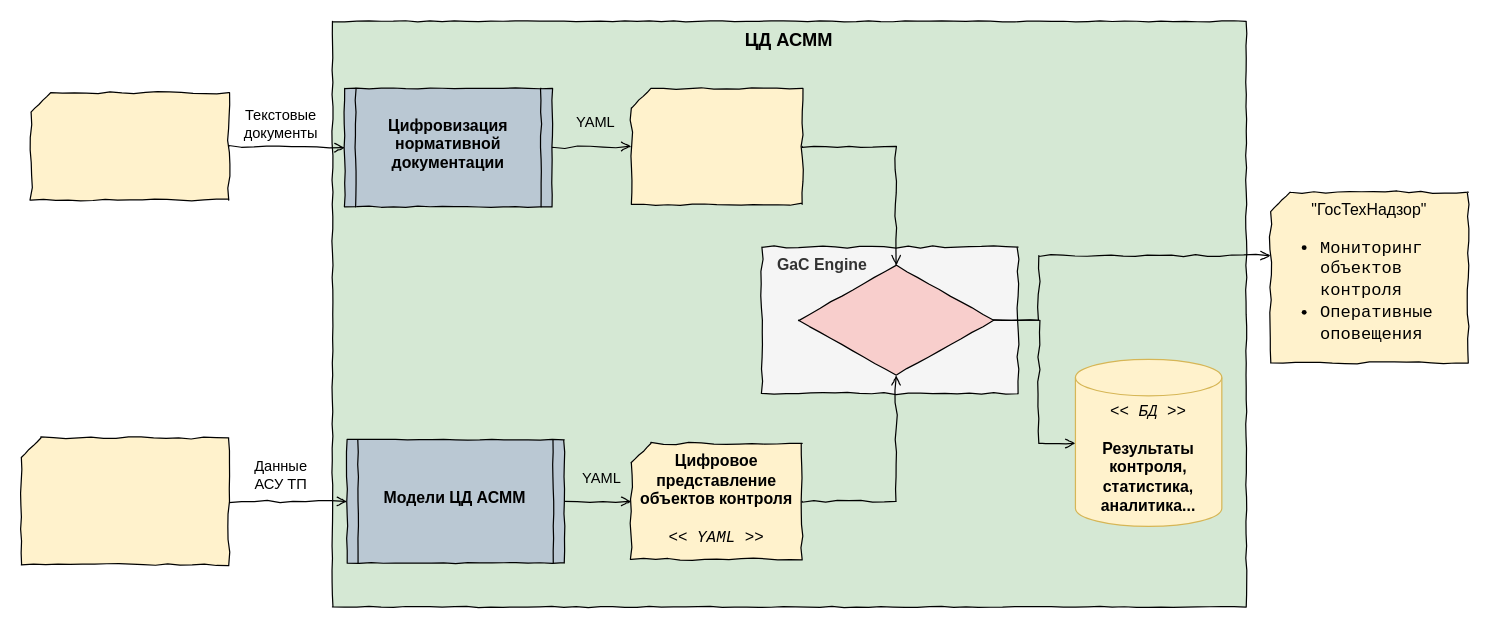
Some shapes in this 1490 by 628 pixel diagram are drawn without their labels. Each missing label, with the centre of its shape:
"ГосТехНадзор" Нормативная документация: the point at 129,146
АСММ: the point at 124,501
Контроль нормативных требований: the point at 895,319
Репозиторий Смарт-стандартов << YAML >>: the point at 716,145
